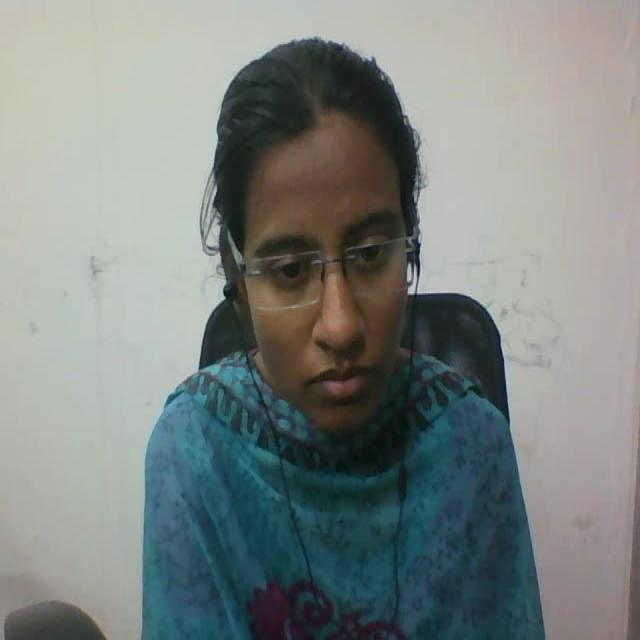Engaged: (174, 24, 496, 497)
